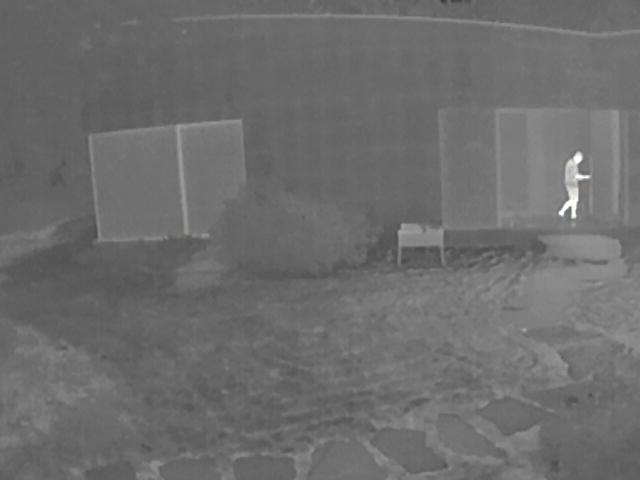person: (557, 153, 592, 220)
